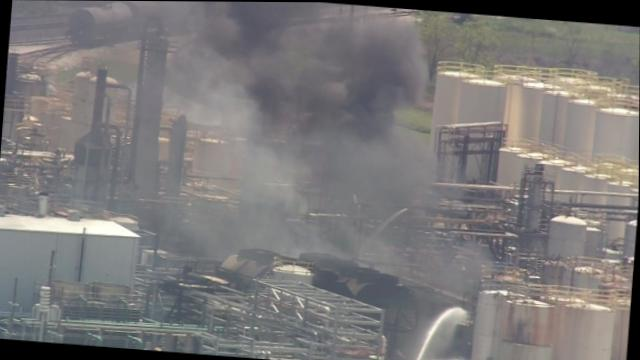smoke: (0, 0, 178, 204), (173, 135, 299, 248), (309, 9, 433, 121), (314, 114, 428, 227), (154, 1, 310, 76), (163, 75, 322, 144), (410, 242, 492, 294), (296, 228, 408, 261)
